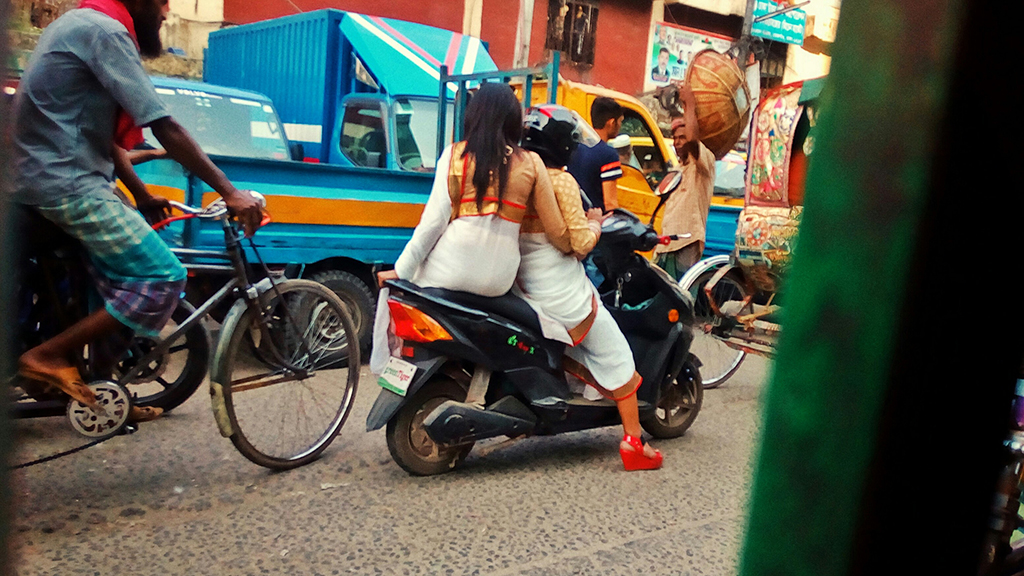pickup: (156, 76, 677, 336), (200, 7, 505, 172)
rickshaw: (1, 187, 361, 472), (679, 72, 834, 389)
scooter: (368, 173, 706, 475)
